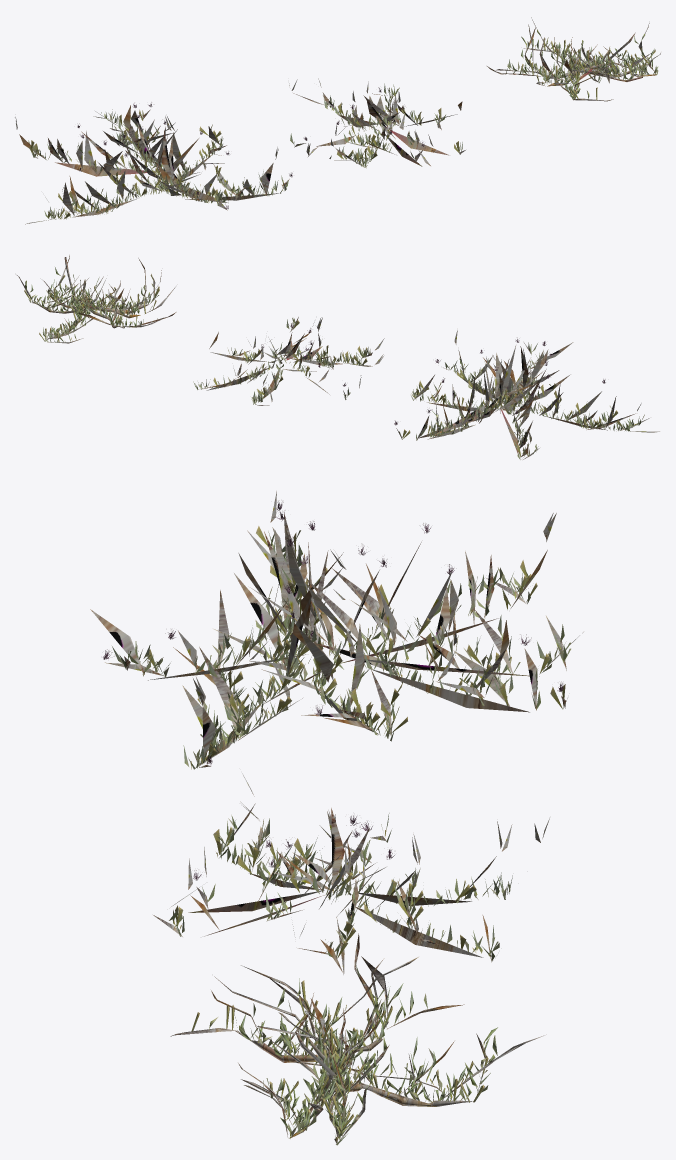
Rendered from leipoldtia_schultzei.glb.
3 renders of one model, top to bottom at view 1: azimuth 30°, elevation 25°; view 2: azimuth 150°, elevation 25°; view 3: azimuth 270°, elevation 25°, orthographic. The views are drawn at different scales.
Parts seen in each view (by area): view 1: leipoldtia_schultzei_Large, leipoldtia_schultzei_Small, leipoldtia_schultzei_Medium; view 2: leipoldtia_schultzei_Large, leipoldtia_schultzei_Small, leipoldtia_schultzei_Medium; view 3: leipoldtia_schultzei_Large, leipoldtia_schultzei_Small, leipoldtia_schultzei_Medium.
Boxes of the visible parts, <box> form: leipoldtia_schultzei_Large: <box>15,102,292,224</box>; leipoldtia_schultzei_Small: <box>487,17,660,101</box>; leipoldtia_schultzei_Medium: <box>289,78,465,168</box>; leipoldtia_schultzei_Large: <box>394,330,659,459</box>; leipoldtia_schultzei_Small: <box>17,255,176,343</box>; leipoldtia_schultzei_Medium: <box>193,317,384,405</box>; leipoldtia_schultzei_Large: <box>90,491,583,769</box>; leipoldtia_schultzei_Small: <box>170,933,544,1145</box>; leipoldtia_schultzei_Medium: <box>153,773,549,974</box>.
Size of the model in its own units: 2.31 by 0.3003 by 0.7966.
Materials: 1 (1 with a texture image).
